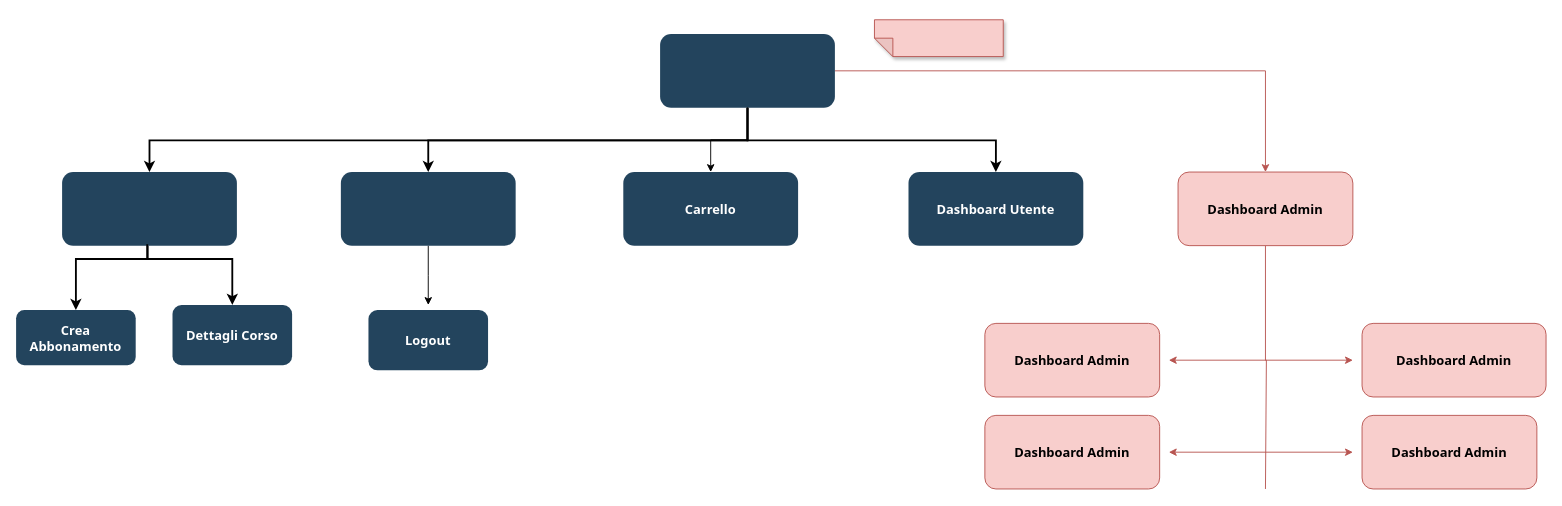
Image size: 1562x506. Some labels were removed from this diagram. Here are the shapes that lost their labels. From the top down, the centre of each, then its label:
At (939,39): "Solo per admin".
At (747,70): "Home".
At (149,208): "Corsi".
At (427,208): "Accedi/Registrati".
